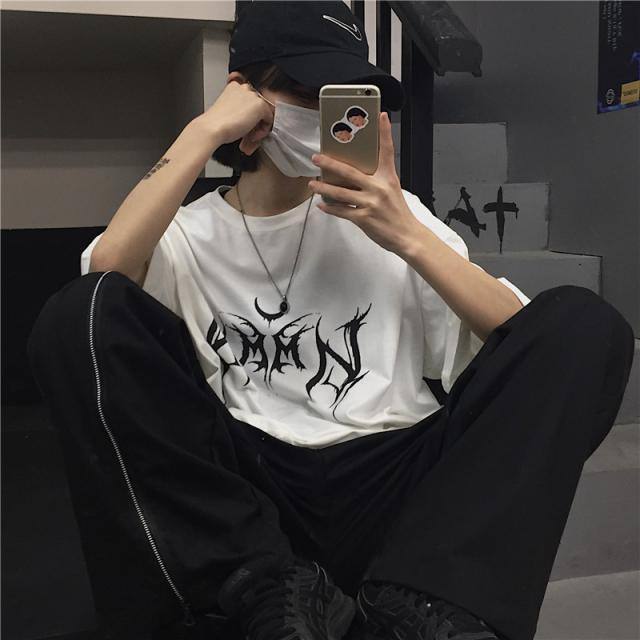Shirt: (79, 167, 546, 450)
